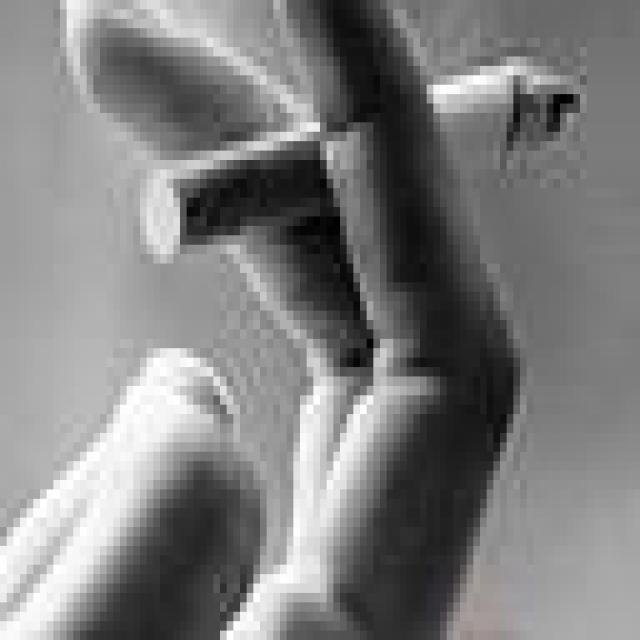smoking: (146, 65, 579, 262)
